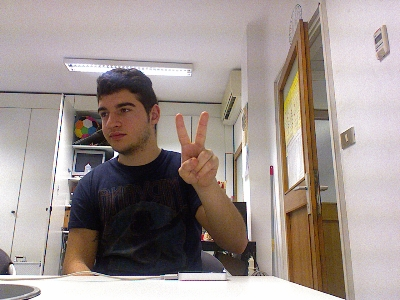剪刀: (175, 111, 218, 188)
